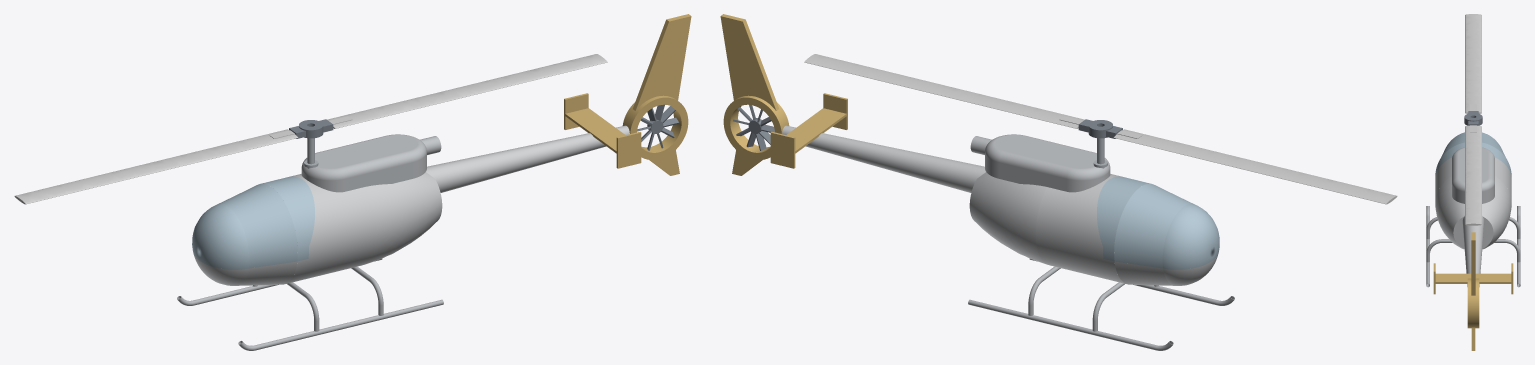
Rendered from ax_helicopter.glb.
The picture shows the model from 3 angles, left to right: view 1: azimuth 30°, elevation 25°; view 2: azimuth 150°, elevation 25°; view 3: azimuth 270°, elevation 25°; orthographic projection. The views are drawn at different scales.
Visible parts, largest first — view 1: fuselage, canopy glazing, engine cowling, fin and fan duct, tail boom, main rotor blade 2, main rotor blade 1, horizontal stabiliser, skid left, tail fan, main rotor hub, skid right; view 2: fuselage, canopy glazing, engine cowling, fin and fan duct, tail boom, main rotor blade 2, main rotor blade 1, horizontal stabiliser, skid right, tail fan, main rotor hub, skid left; view 3: fuselage, main rotor blade 1, main rotor blade 2, engine cowling, fin and fan duct, horizontal stabiliser, tail boom, canopy glazing, cross tube rear, main rotor hub, cross tube front, skid right (+1 smaller).
Part boxes in pixels (left/top/right/bottom): fuselage: left=194, top=172, right=442, bottom=285; canopy glazing: left=192, top=176, right=314, bottom=269; engine cowling: left=301, top=134, right=441, bottom=192; fin and fan duct: left=622, top=14, right=691, bottom=175; tail boom: left=426, top=125, right=629, bottom=192; main rotor blade 2: left=14, top=129, right=298, bottom=204; main rotor blade 1: left=327, top=54, right=607, bottom=128; horizontal stabiliser: left=564, top=93, right=641, bottom=168; skid left: left=238, top=299, right=443, bottom=350; tail fan: left=637, top=104, right=679, bottom=150; main rotor hub: left=289, top=119, right=333, bottom=138; skid right: left=177, top=259, right=382, bottom=305; fuselage: left=969, top=172, right=1217, bottom=285; canopy glazing: left=1097, top=176, right=1219, bottom=269; engine cowling: left=970, top=134, right=1110, bottom=192; fin and fan duct: left=720, top=14, right=789, bottom=175; tail boom: left=782, top=125, right=985, bottom=192; main rotor blade 2: left=1113, top=129, right=1397, bottom=204; main rotor blade 1: left=804, top=54, right=1084, bottom=128; horizontal stabiliser: left=770, top=93, right=847, bottom=168; skid right: left=968, top=299, right=1173, bottom=350; tail fan: left=733, top=105, right=774, bottom=150; main rotor hub: left=1078, top=119, right=1122, bottom=138; skid left: left=1029, top=259, right=1234, bottom=305; fuselage: left=1435, top=157, right=1511, bottom=249; main rotor blade 1: left=1465, top=125, right=1481, bottom=225; main rotor blade 2: left=1465, top=14, right=1481, bottom=113; engine cowling: left=1452, top=147, right=1494, bottom=203; fin and fan duct: left=1467, top=232, right=1479, bottom=350; horizontal stabiliser: left=1433, top=263, right=1513, bottom=294; tail boom: left=1462, top=216, right=1484, bottom=286; canopy glazing: left=1435, top=132, right=1511, bottom=176; cross tube rear: left=1426, top=239, right=1520, bottom=262; main rotor hub: left=1464, top=111, right=1482, bottom=125; cross tube front: left=1426, top=217, right=1520, bottom=239; skid right: left=1517, top=206, right=1520, bottom=287.
Size of the model in its own units: 11970 by 3400 by 1980.
